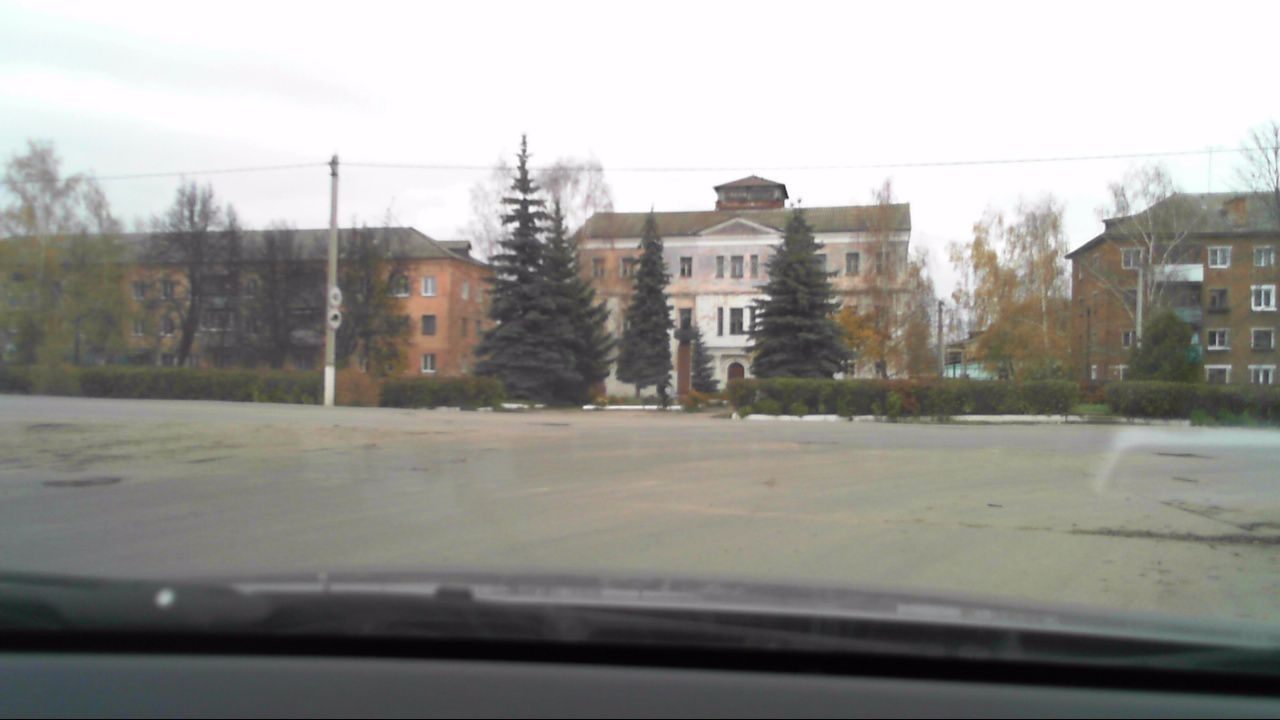speed_warning_40: (326, 285, 344, 307)
